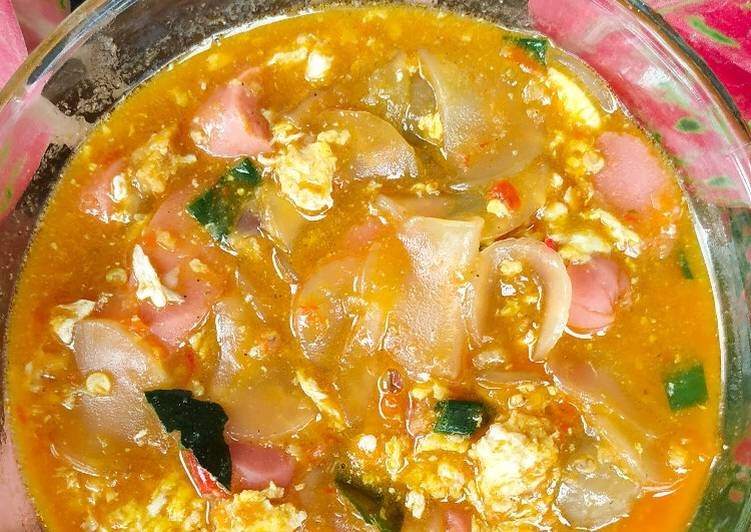seblak: (14, 6, 723, 532)
